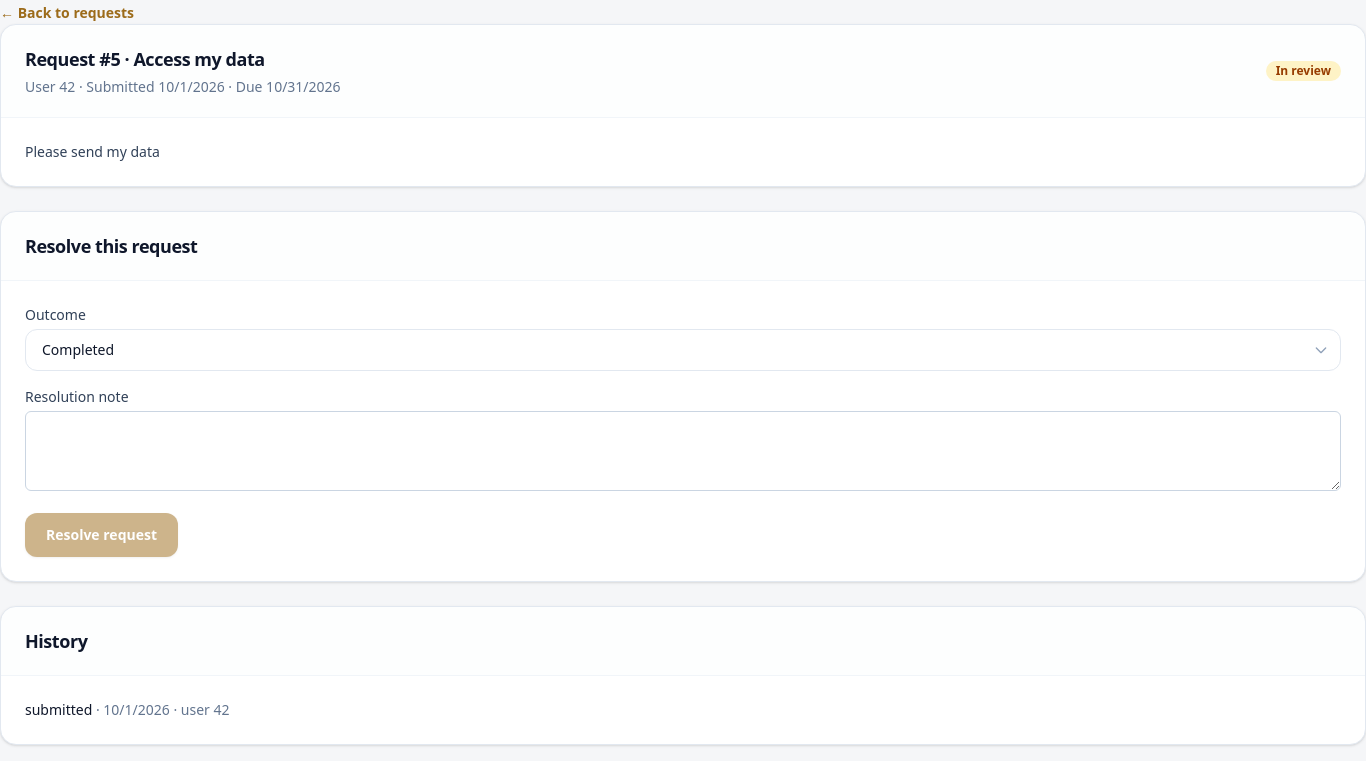
Test case: PrivacyRequestDetailPage › shows the server error when resolving fails
The image size is (1366, 761).
Type "ok" into the text box labelled "Resolution note". click: x=683, y=451
box: [25,411,1341,491]
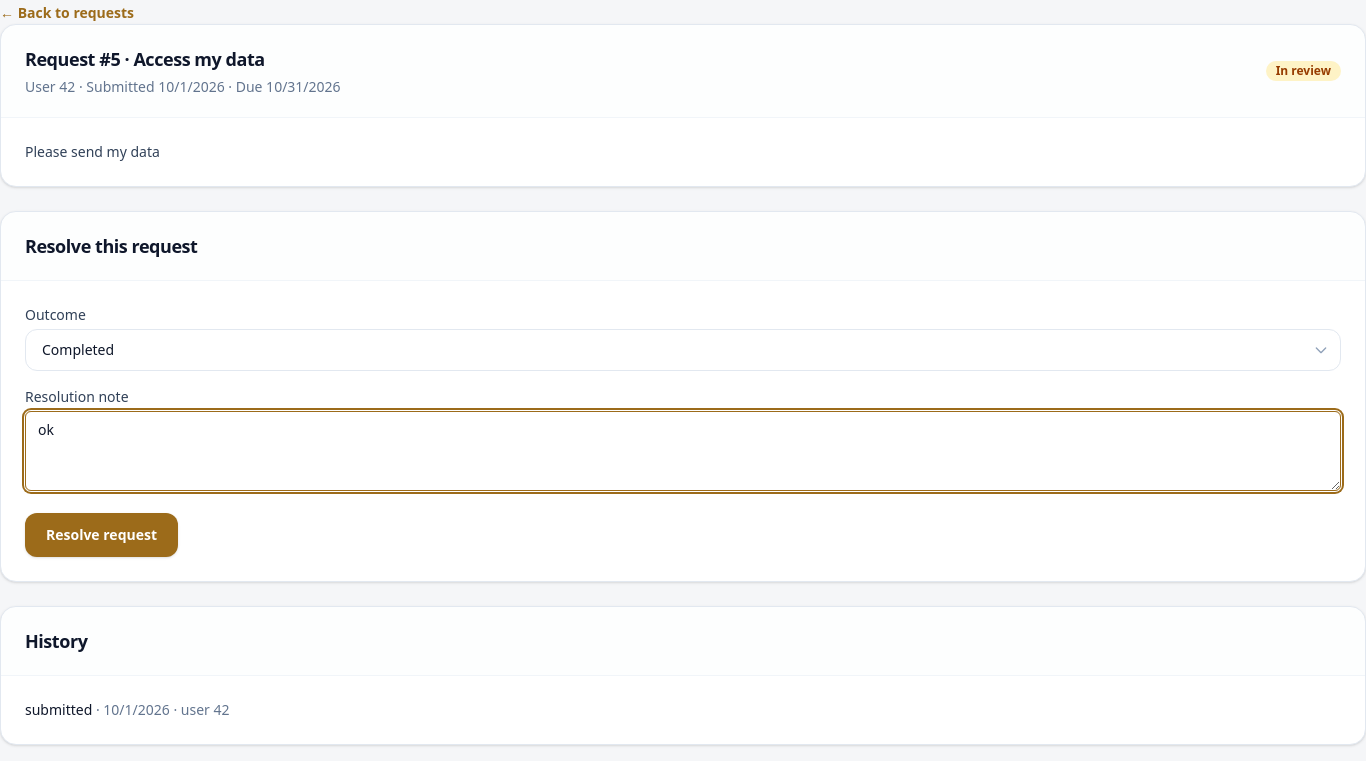
Click the button "Resolve request". click: x=102, y=535
box: [25,513,178,557]
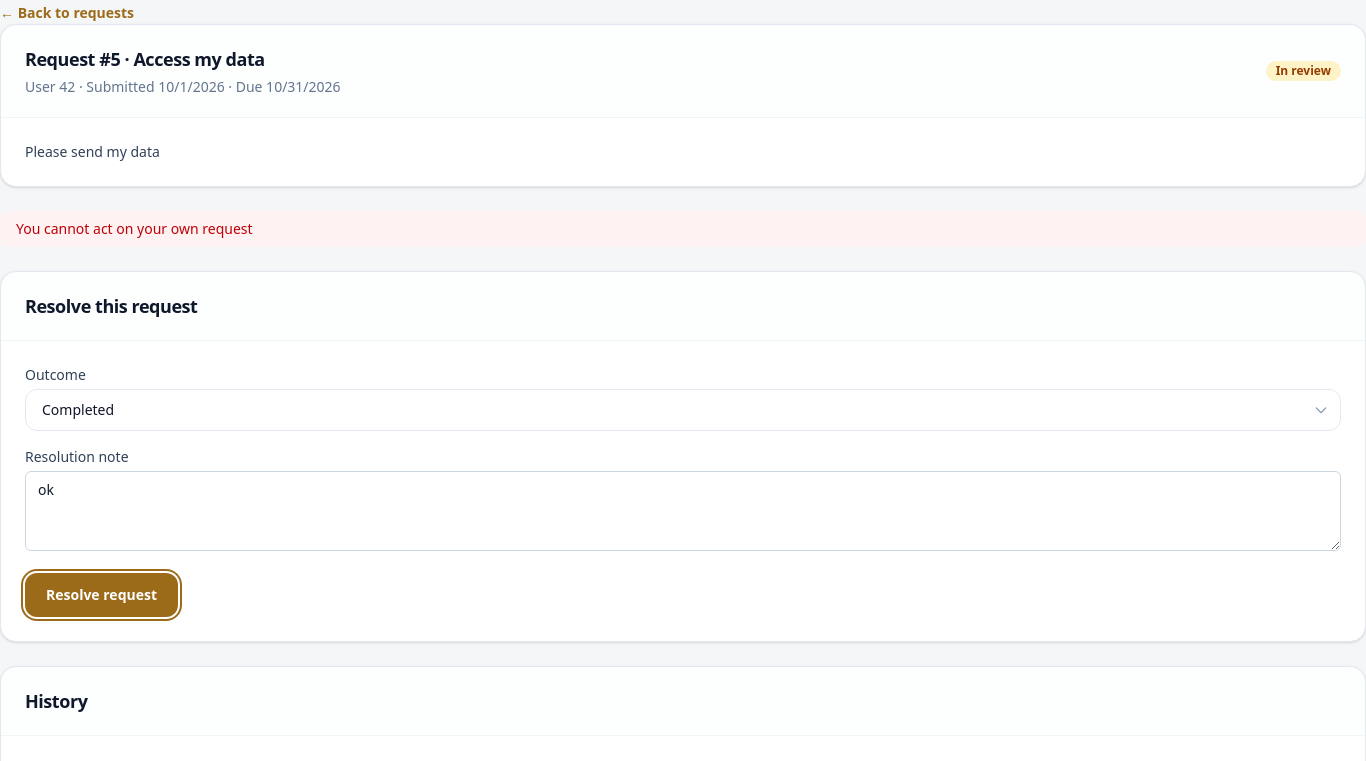
Expected: the text "You cannot act on your own request" is shown, [0,211,1365,247]
